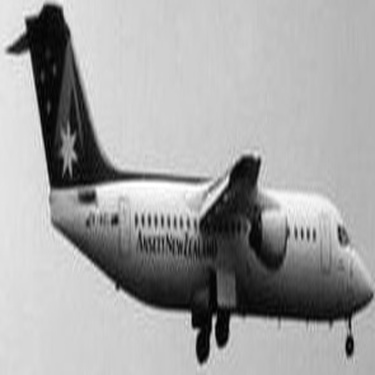airplane: (6, 1, 369, 371)
